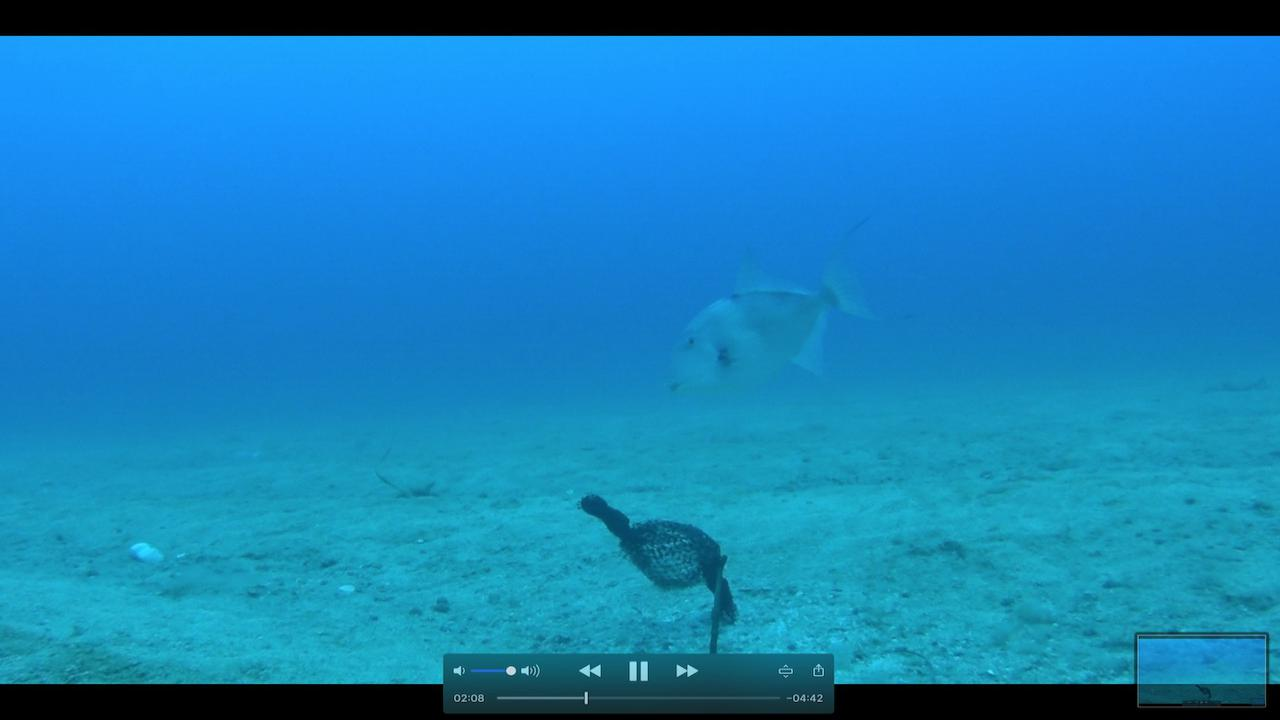balistes: (660, 213, 926, 397)
